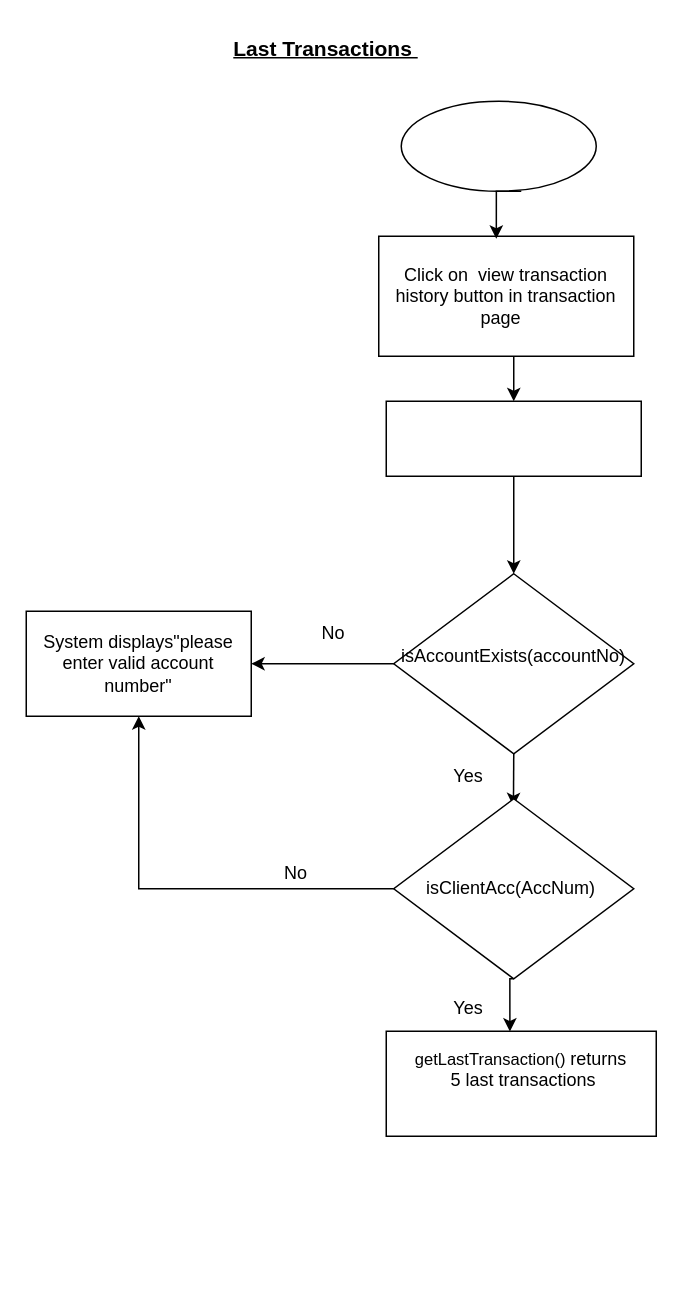
Image size: 683x1302. Some labels were removed from this diagram. The box of each missing label's shape, as (x1, y1, x2, y2) in pixels:
Enter account number: (385, 400, 641, 476)
Start: (400, 100, 596, 191)
